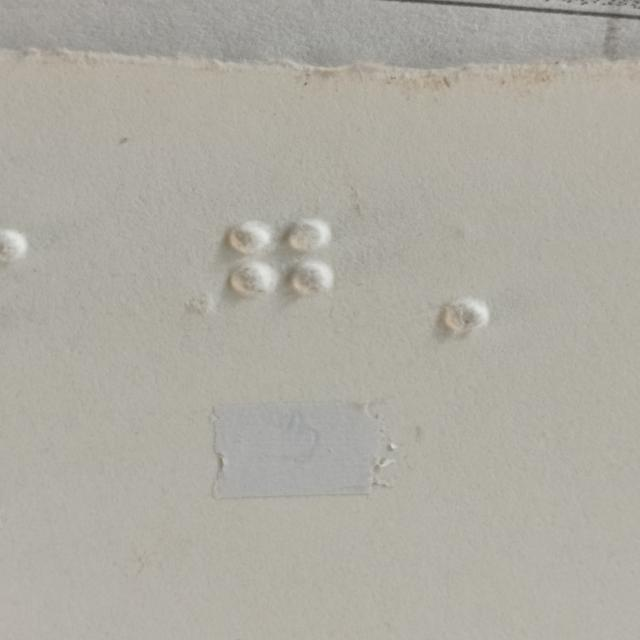g: (230, 220, 333, 356)
